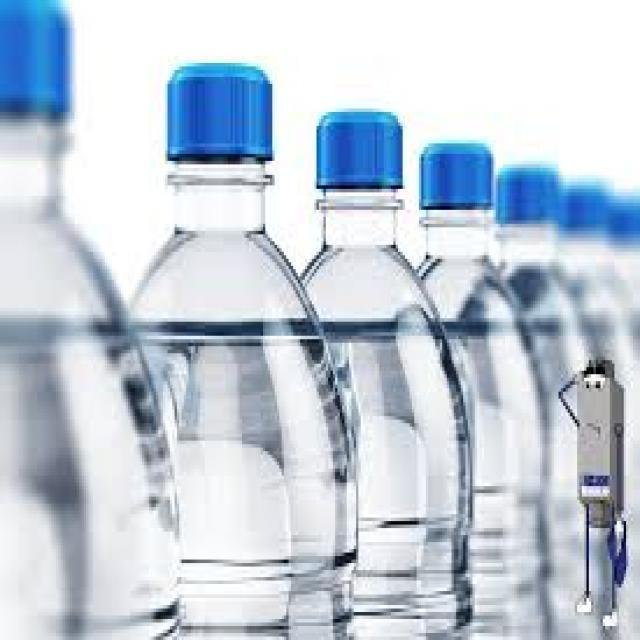Plastic: (125, 59, 358, 640), (0, 0, 181, 639), (300, 104, 472, 640), (410, 140, 548, 640)
